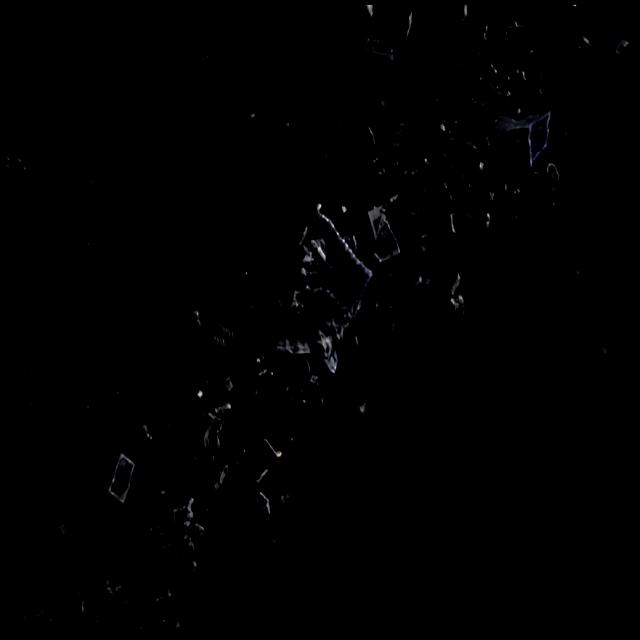large_debris: (290, 178, 378, 317), (490, 99, 551, 167), (273, 331, 342, 385), (187, 396, 234, 471), (165, 490, 199, 570), (102, 446, 138, 521), (441, 253, 472, 334), (255, 437, 284, 523), (364, 197, 400, 265), (356, 29, 396, 82), (534, 158, 565, 208), (207, 312, 233, 367), (609, 41, 630, 63)
